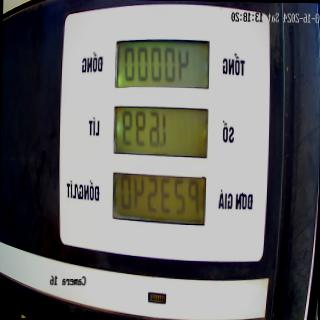screen: (110, 32, 212, 232)
